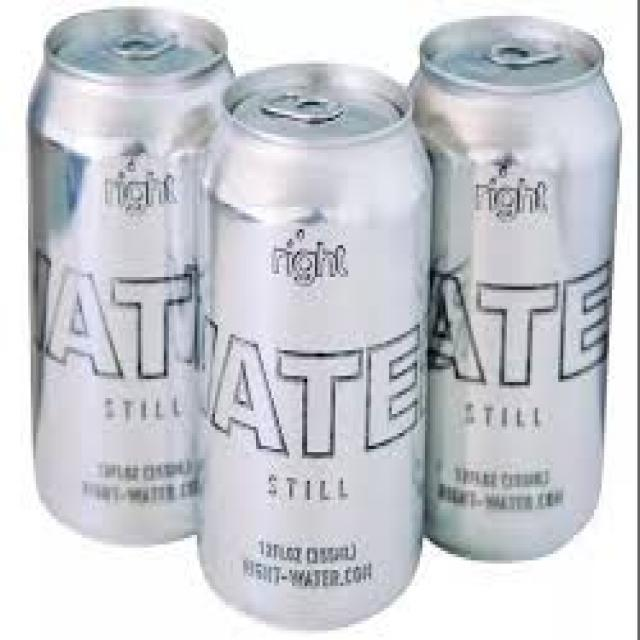recyclable: (200, 63, 433, 629), (400, 16, 622, 564), (25, 6, 241, 547)
